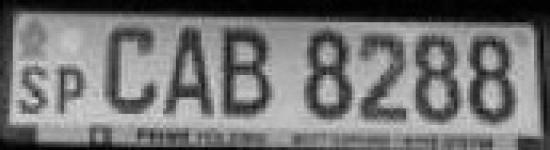2: (360, 27, 414, 130)
8: (301, 24, 360, 125), (412, 30, 468, 128), (468, 30, 522, 128)
A: (161, 23, 220, 123)
B: (219, 22, 280, 122)
C: (100, 21, 159, 116)
P: (54, 61, 90, 118)
S: (20, 62, 53, 114)
